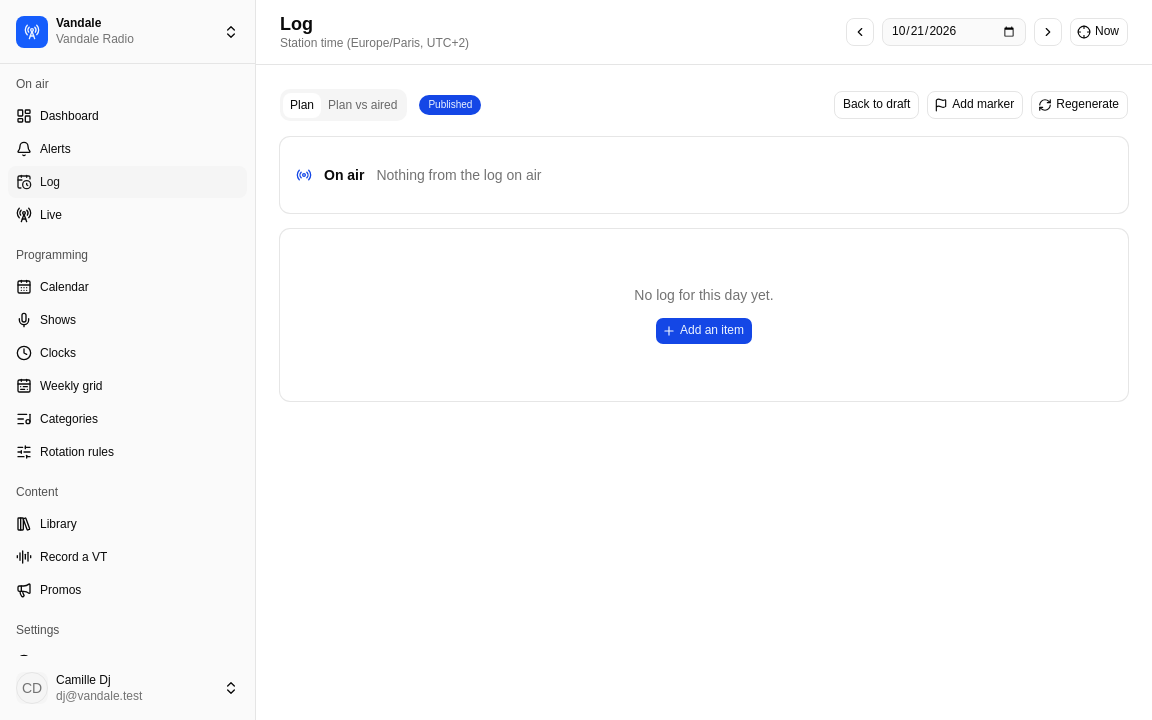
regenerate › previews the changes in station time, then applies them with the versions it saw
Click the button "Regenerate".
click(1080, 105)  # box [1031, 91, 1128, 119]
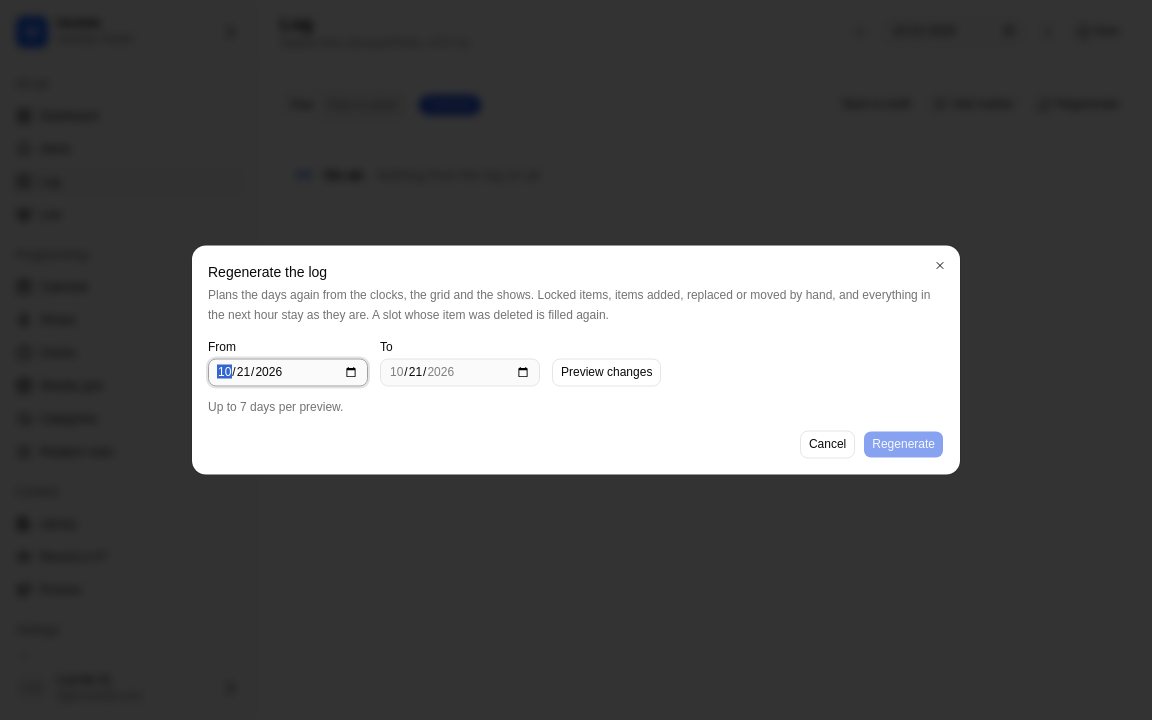
Click the button "Preview changes".
click(607, 372)  # box [552, 358, 661, 386]
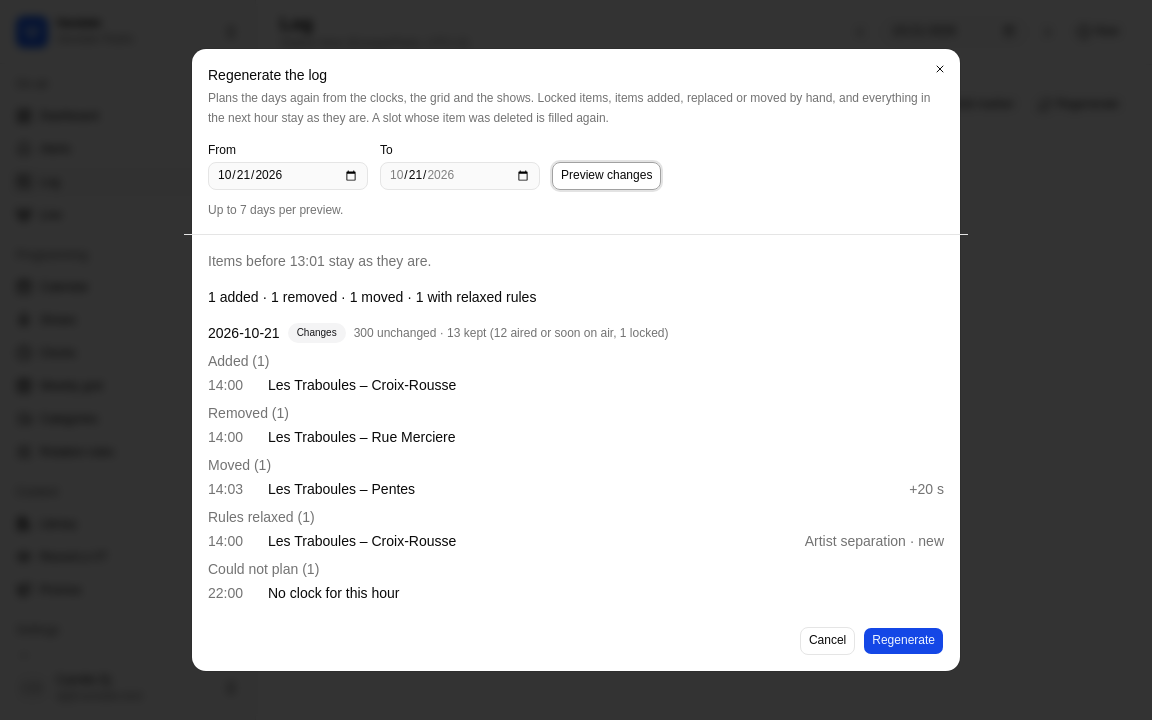
Expected: the text "Items before 13:01 stay as they are." is shown, [208, 253, 431, 269]
Expected: the text "1 added · 1 removed · 1 moved · 1 with relaxed rules" is shown, [208, 289, 536, 305]
Expected: the heading "Added (1)" is shown, [208, 353, 270, 369]
Click the button "Regenerate".
click(904, 641)  # box [863, 627, 944, 655]
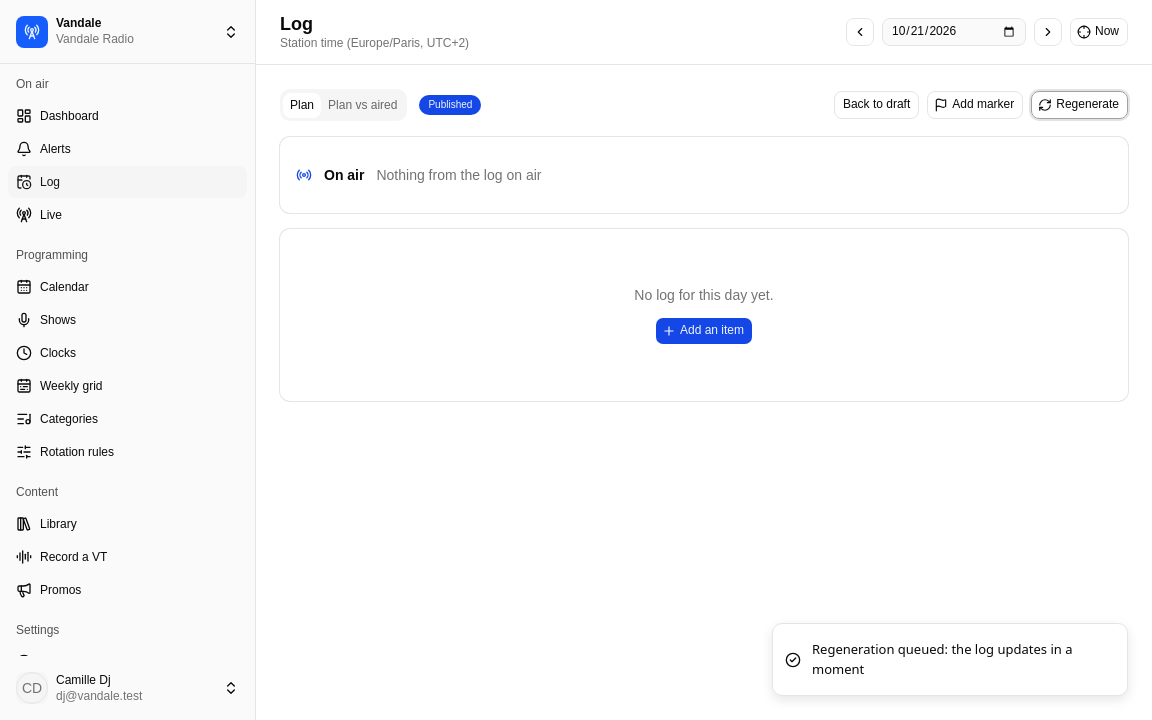
Expected: the text "Regeneration queued: the log updates in a moment" is shown, [812, 640, 1111, 679]
Expected: the dialog is gone
